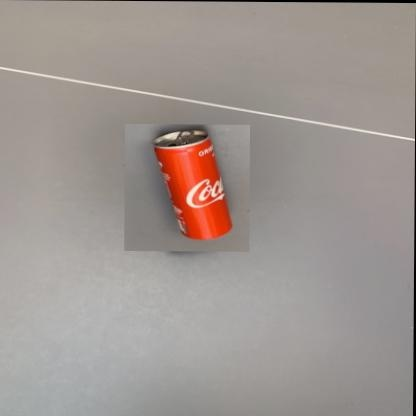trash: (153, 128, 231, 239)
